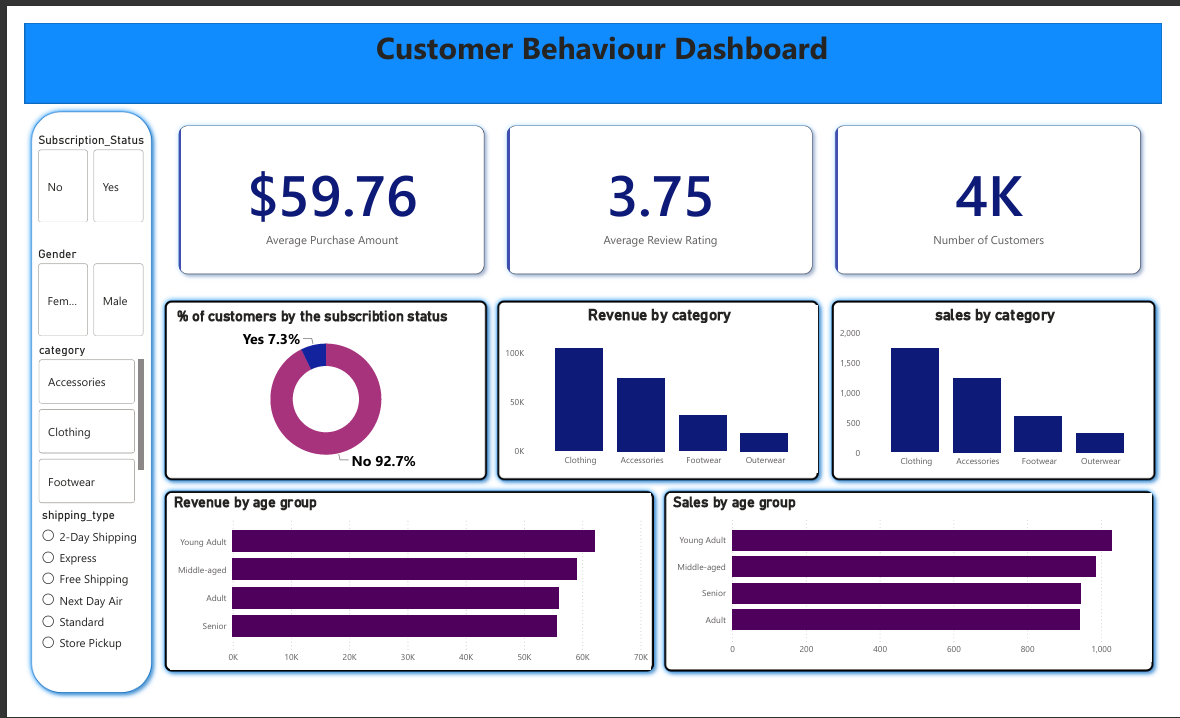

What the dashboard file says about the page in this screenshot:
{"tool":"powerbi","page":{"name":"Page 1","canvas":[1600,950],"ordinal":0},"visuals":[{"type":"shape","box":[890.9,649.5,707.2,271.3],"z":0},{"type":"shape","box":[188,649.5,707.2,271.3],"z":1000},{"type":"cardVisual","fields":{"Data":["public customer.Average Purchase Amount","public customer.Average Review Rating","public customer.Number of Customers"]},"box":[188.2,115.4,1412.8,267.2],"z":2000},{"type":"shape","box":[0,0,1601,113.3],"z":3000},{"type":"textbox","box":[218.6,0,1188.1,95.1],"z":4000},{"type":"shape","box":[188.2,380.5,471.6,271.2],"z":5000},{"type":"donutChart","title":"% of customers by the subscribtion status","fields":{"Category":["public customer.subscription_status"],"Y":["Sum(public customer.customer_id)"]},"box":[209.4,399.5,429.4,235],"z":6000},{"type":"shape","box":[655.8,380.5,471.6,271.2],"z":7000},{"type":"shape","box":[1127.4,380.5,473.6,271.2],"z":8000},{"type":"clusteredColumnChart","title":"Revenue by category","fields":{"Y":["Sum(public customer.purchase_amount)"],"Category":["public customer.category"]},"box":[670.9,397.4,446.5,235],"z":9000},{"type":"clusteredColumnChart","title":"sales by category","fields":{"Y":["CountNonNull(public customer.customer_id)"],"Category":["public customer.category"]},"box":[1141.6,396.7,447.3,236.8],"z":10000},{"type":"shape","box":[0,115.4,188,835.4],"z":11000},{"type":"advancedSlicerVisual","fields":{"Values":["public customer.subscription_status"]},"box":[14.2,153.8,159.9,131.6],"z":12000},{"type":"advancedSlicerVisual","fields":{"Values":["public customer.gender"]},"box":[14.2,313.7,159.9,131.6],"z":13000},{"type":"advancedSlicerVisual","fields":{"Values":["public customer.category"]},"box":[15,448.7,158.1,232.9],"z":14000},{"type":"listSlicer","fields":{"Values":["public customer.shipping_type"]},"box":[19.2,681.5,149.6,237.1],"z":15000},{"type":"clusteredBarChart","title":"Revenue by age group","fields":{"Y":["Sum(public customer.purchase_amount)"],"Category":["public customer.age_group"]},"box":[205.1,662.3,677.3,247.8],"z":16000},{"type":"clusteredBarChart","title":"Sales by age group","fields":{"Y":["CountNonNull(public customer.customer_id)"],"Category":["public customer.age_group"]},"box":[908,662.3,679.4,237.1],"z":17000}]}

Visuals, with their boxes in screenshot pixels (x1, y1, x2, y2), scaled from the page's 1600x950 canvas onto the 1180x718 screenshot:
shape: <region>657, 491, 1179, 696</region>
shape: <region>139, 491, 660, 696</region>
cardVisual - public customer.Average Purchase Amount x public customer.Average Review Rating: <region>139, 87, 1179, 289</region>
shape: <region>0, 0, 1179, 86</region>
textbox: <region>161, 0, 1037, 72</region>
shape: <region>139, 288, 487, 493</region>
"% of customers by the subscribtion status" donutChart: <region>154, 302, 471, 480</region>
shape: <region>484, 288, 831, 493</region>
shape: <region>831, 288, 1179, 493</region>
"Revenue by category" clusteredColumnChart: <region>495, 300, 824, 478</region>
"sales by category" clusteredColumnChart: <region>842, 300, 1172, 479</region>
shape: <region>0, 87, 139, 717</region>
advancedSlicerVisual - public customer.subscription_status: <region>10, 116, 128, 216</region>
advancedSlicerVisual - public customer.gender: <region>10, 237, 128, 337</region>
advancedSlicerVisual - public customer.category: <region>11, 339, 128, 515</region>
listSlicer - public customer.shipping_type: <region>14, 515, 124, 694</region>
"Revenue by age group" clusteredBarChart: <region>151, 501, 651, 688</region>
"Sales by age group" clusteredBarChart: <region>670, 501, 1171, 680</region>
